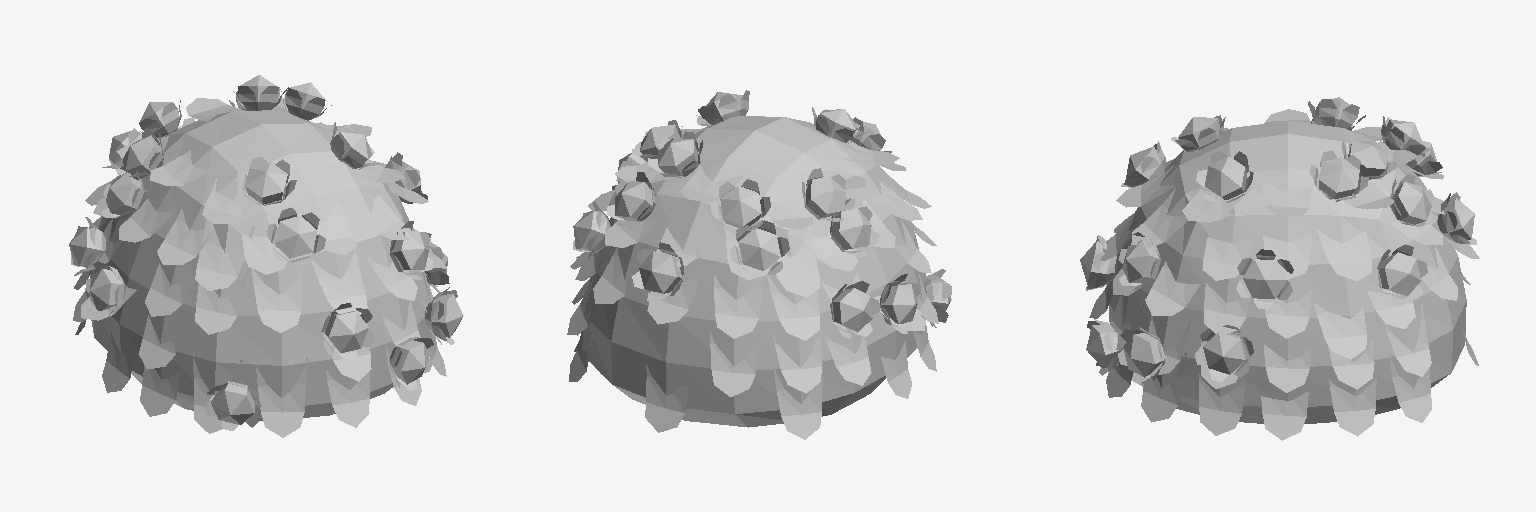
Rendered from obj_roseW.obj.
The picture shows the model from 3 angles: view 1: azimuth 30°, elevation 25°; view 2: azimuth 150°, elevation 25°; view 3: azimuth 270°, elevation 25°; orthographic projection.
Parts seen in each view (by area): view 1: RoseW_Cube.002, leavesW_Plane.005; view 2: RoseW_Cube.002, leavesW_Plane.005; view 3: RoseW_Cube.002, leavesW_Plane.005.
Part boxes in pixels (x1,y1,x2,y2): RoseW_Cube.002: (69,75,463,430); leavesW_Plane.005: (73,98,446,437); RoseW_Cube.002: (573,90,951,427); leavesW_Plane.005: (567,116,938,439); RoseW_Cube.002: (1080,97,1476,423); leavesW_Plane.005: (1089,109,1479,440).
Bounding box in the file's own units: 0.9618 × 0.7552 × 1.